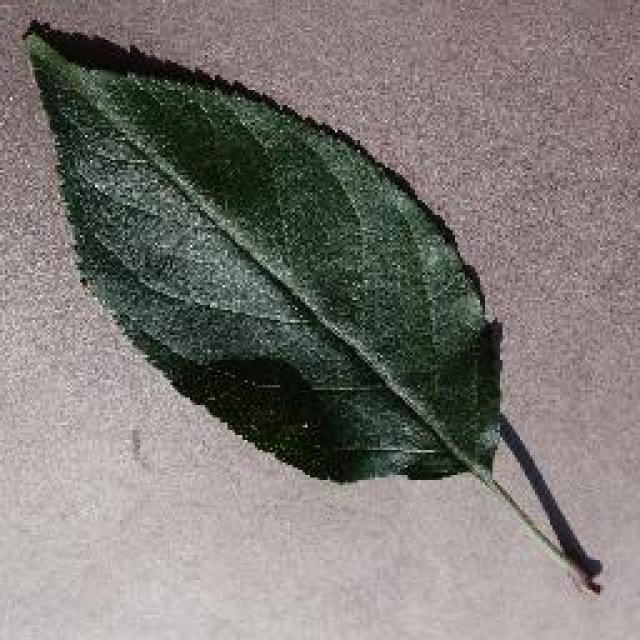apple healthy: (18, 15, 602, 595)
